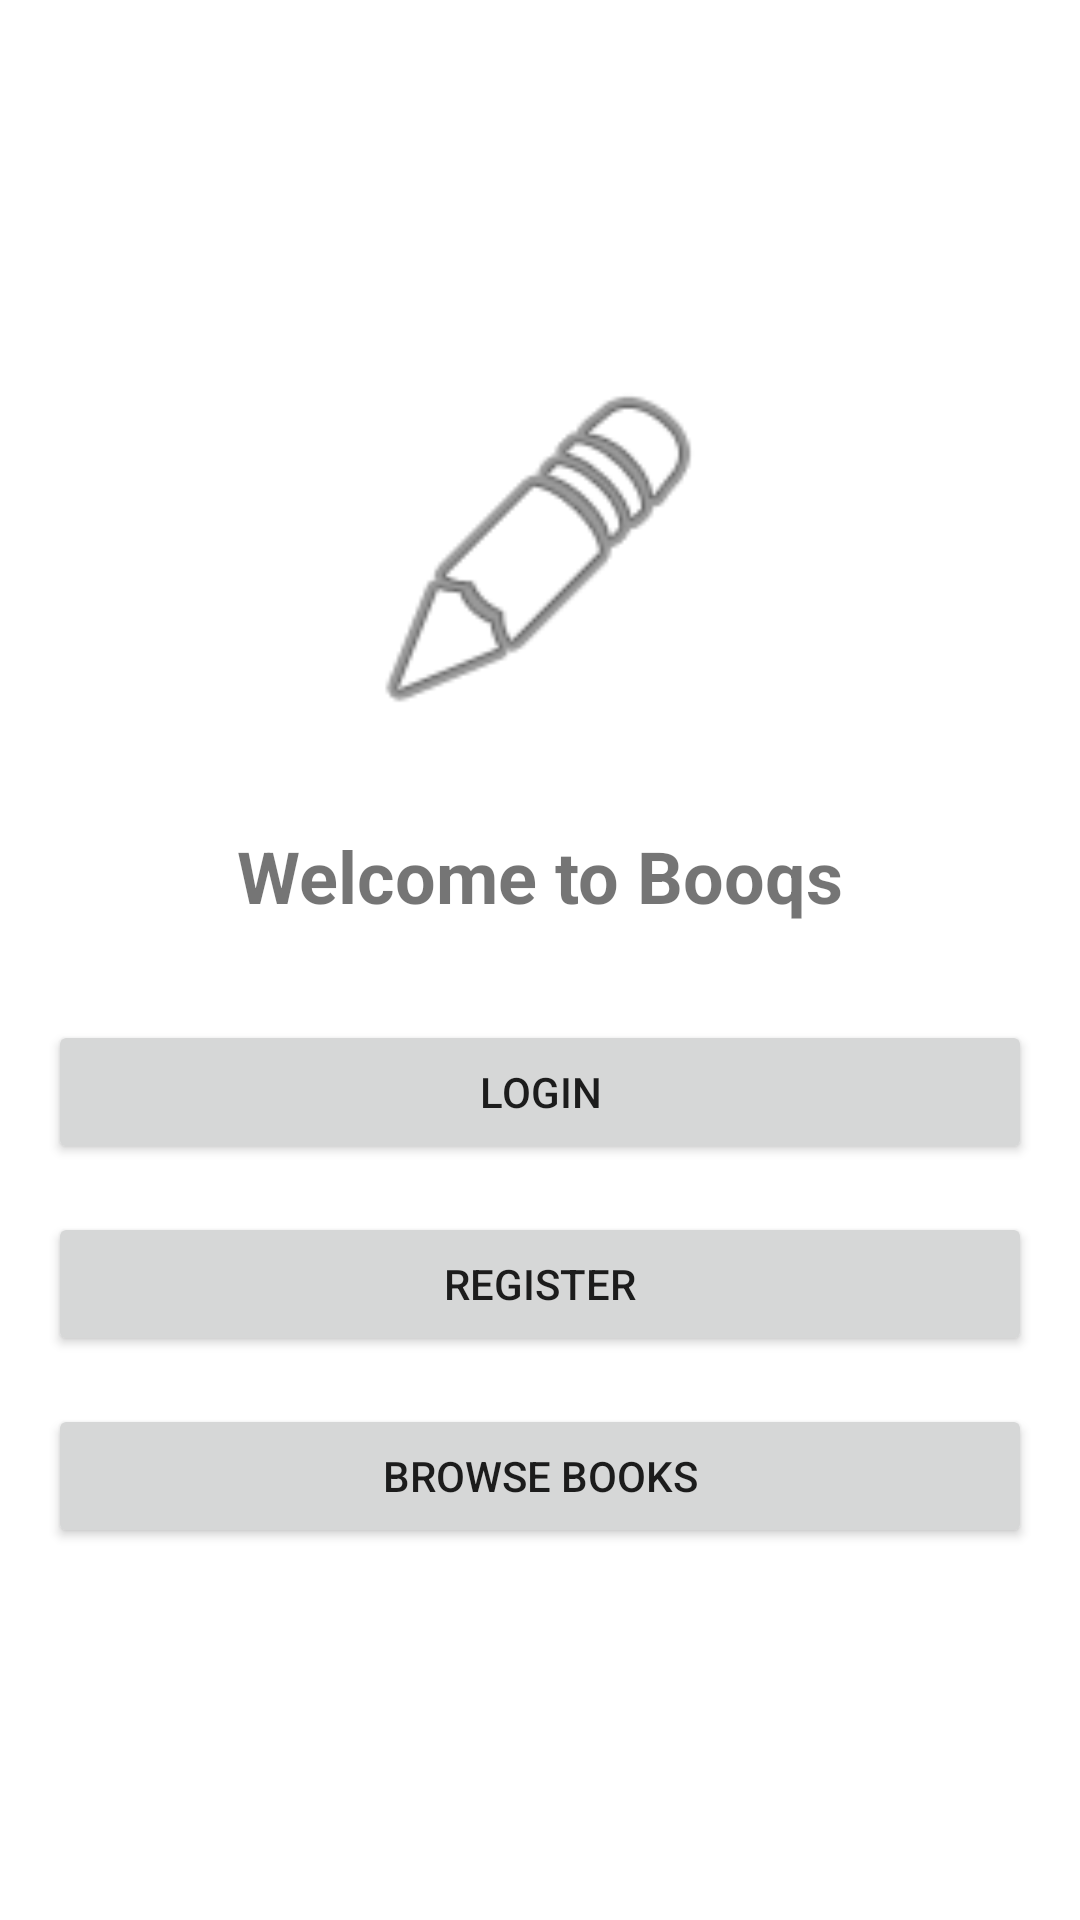

Locate icon controls on the screen. Image size 1080x1920, boxes as {"left": x1, "top": y1, "right": x2, "bottom": y2}.
edit: {"left": 386, "top": 396, "right": 691, "bottom": 702}
